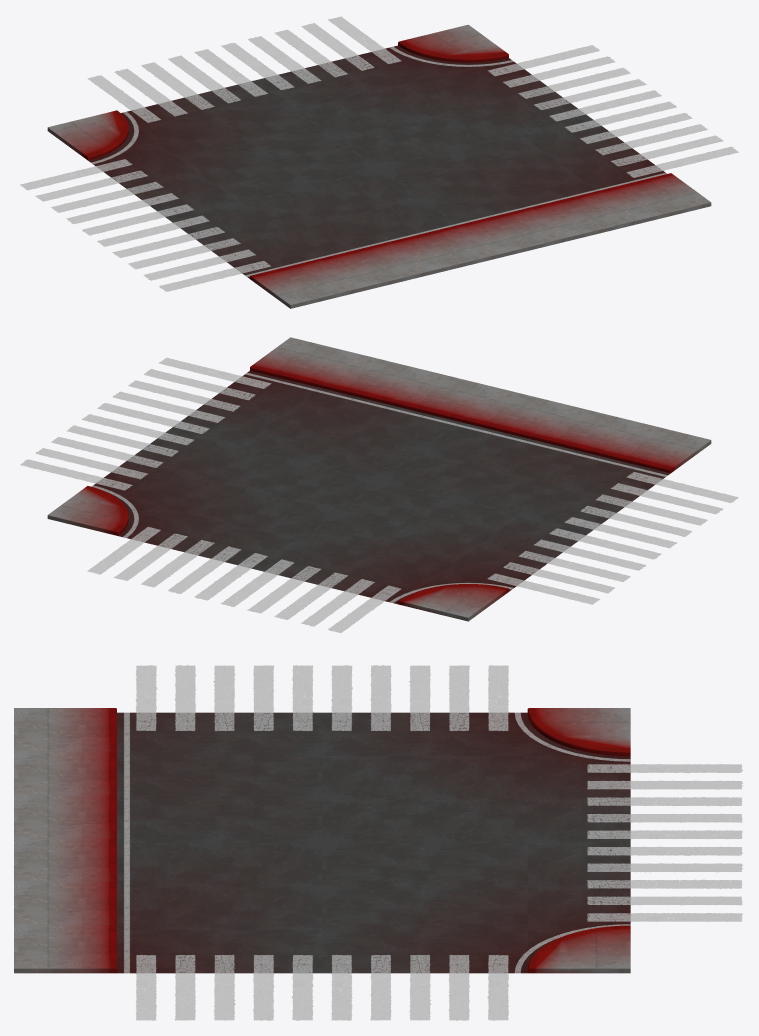
Rendered from Street_TIntersection.glb.
3 views of the same model, one above another, from view 1: azimuth 30°, elevation 25°; view 2: azimuth 150°, elevation 25°; view 3: azimuth 270°, elevation 25° (orthographic). The views are drawn at different scales.
Parts seen in each view (by area): view 1: Street_TIntersection; view 2: Street_TIntersection; view 3: Street_TIntersection.
Boxes of the visible parts, x1,y1,x2,y2 form: Street_TIntersection: (20,16,738,308); Street_TIntersection: (20,337,738,632); Street_TIntersection: (14,665,742,1020).
Size of the model in its own units: 24.67 by 0.1505 by 21.33.
3 materials, 3 textured.
